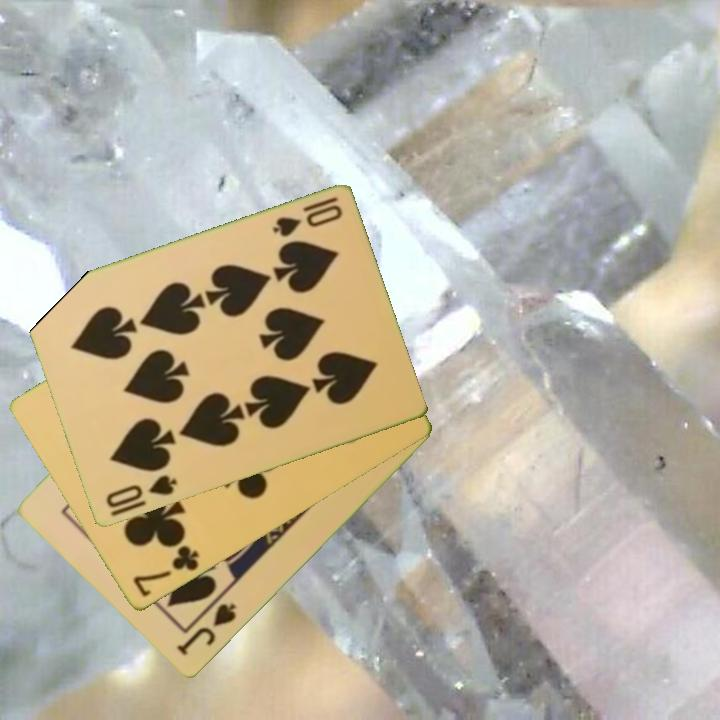10s: (268, 194, 345, 241), (102, 471, 180, 512)
7c: (129, 542, 202, 601)
Js: (173, 600, 240, 660)
